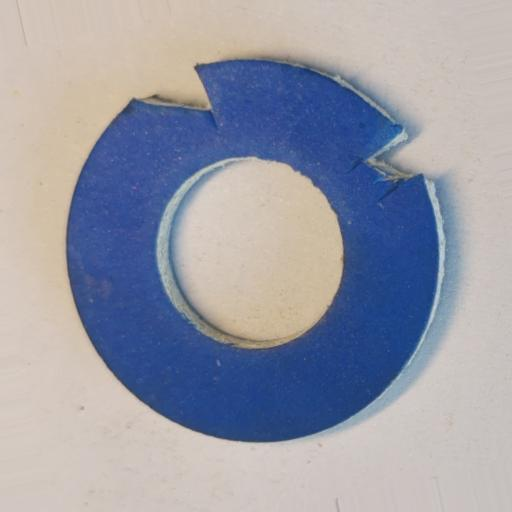defect: (347, 129, 427, 204), (131, 65, 220, 127)
